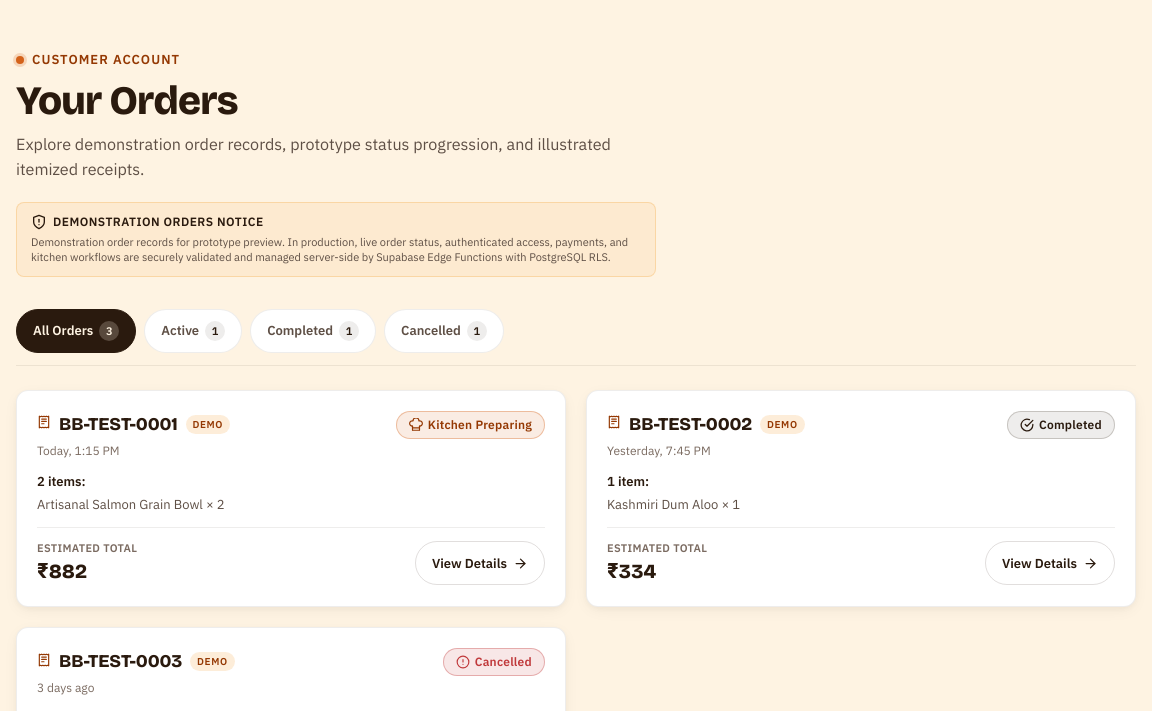
Scenario: Customer Orders Experience (Task 05) › OrdersSection › filters orders by category tab correctly
// Filter by Active
Click the tab "Active 1": (193, 331) [144,309,242,353]
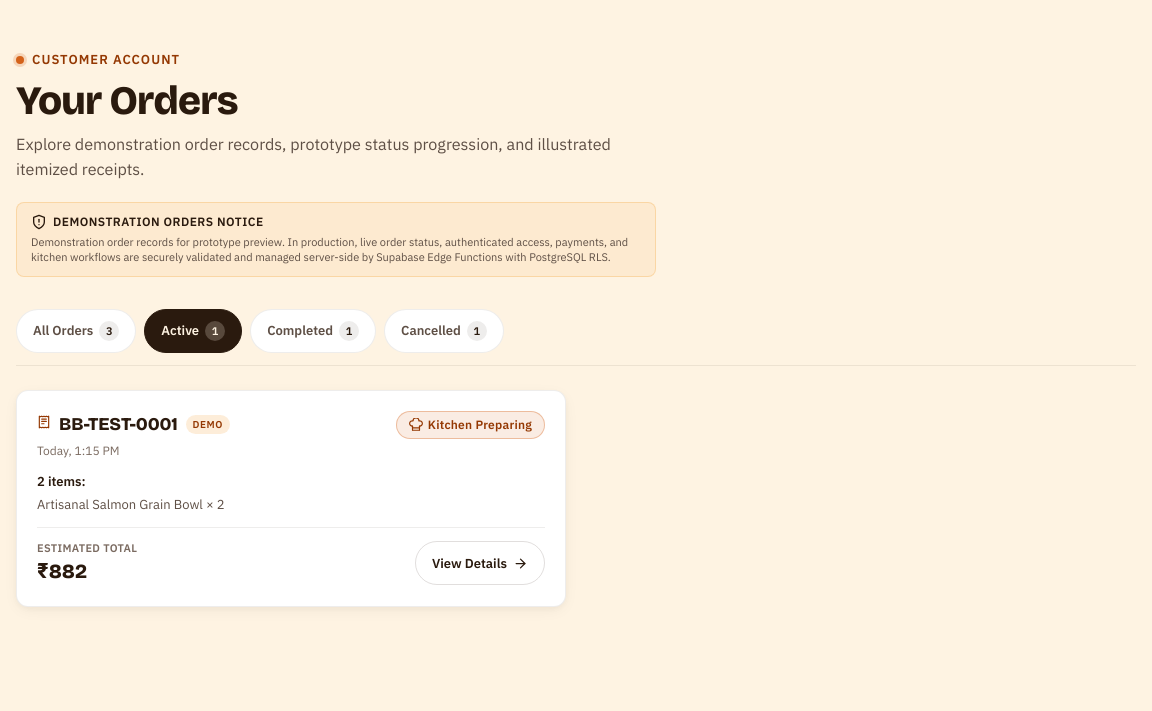
Expected: the heading "BB-TEST-0001" is shown, [59,411,178,438]
Expected: the heading "BB-TEST-0002" is gone
Expected: the heading "BB-TEST-0003" is gone
// Filter by Completed
Click the tab "Completed 1": (313, 331) [250,309,376,353]
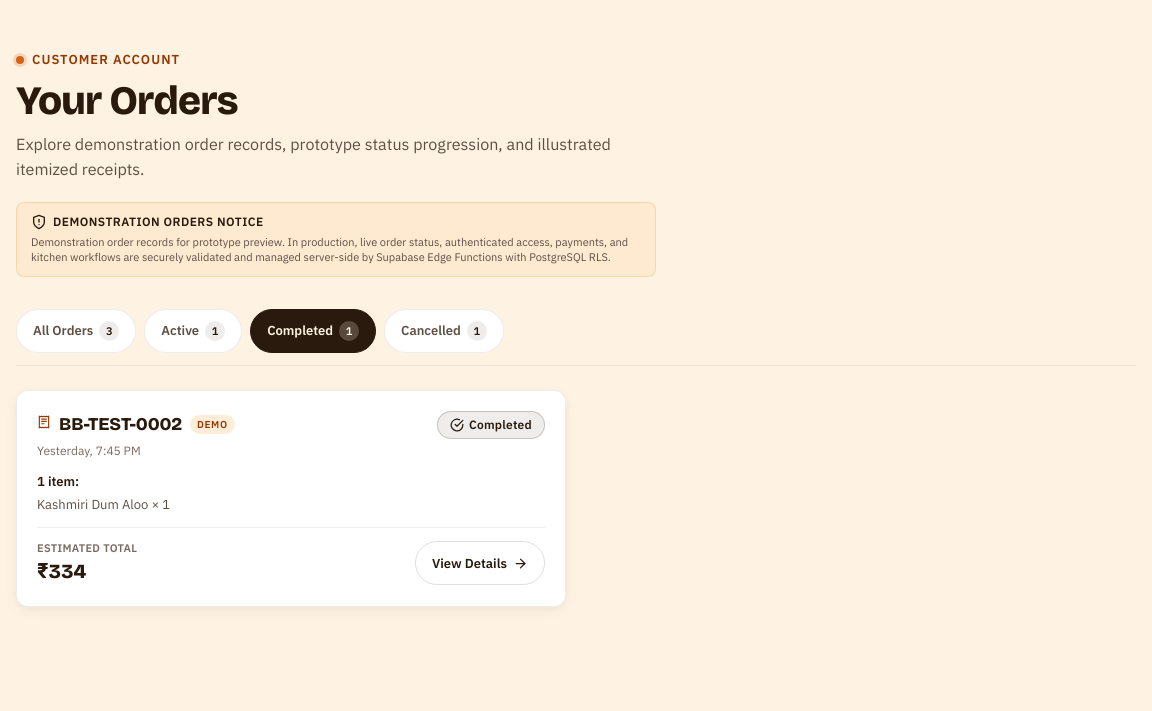
Expected: the heading "BB-TEST-0003" is not shown
Expected: the heading "BB-TEST-0001" is gone
Expected: the heading "BB-TEST-0002" is shown, [59,411,182,438]
// Filter by Cancelled
Click the tab "Cancelled 1": (444, 331) [384,309,504,353]
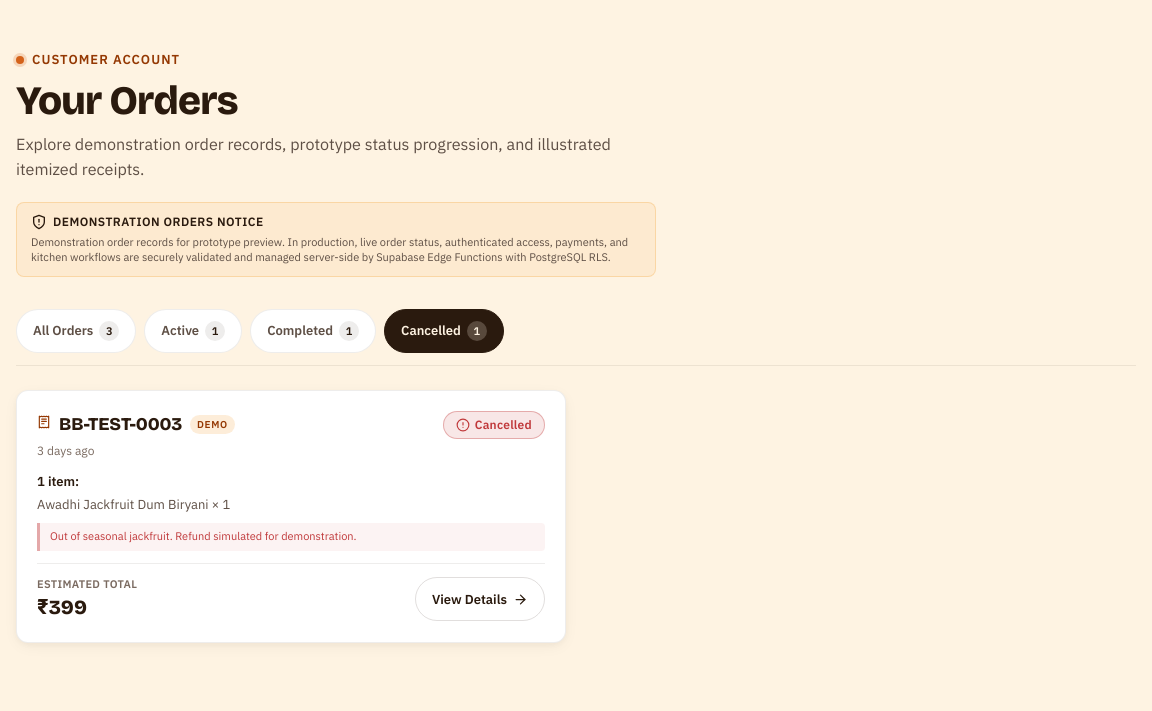
Expected: the heading "BB-TEST-0001" is not shown
Expected: the heading "BB-TEST-0002" is gone
Expected: the heading "BB-TEST-0003" is shown, [59,411,182,438]
// Return to All Orders
Click the tab "All Orders 3": (76, 331) [16,309,136,353]
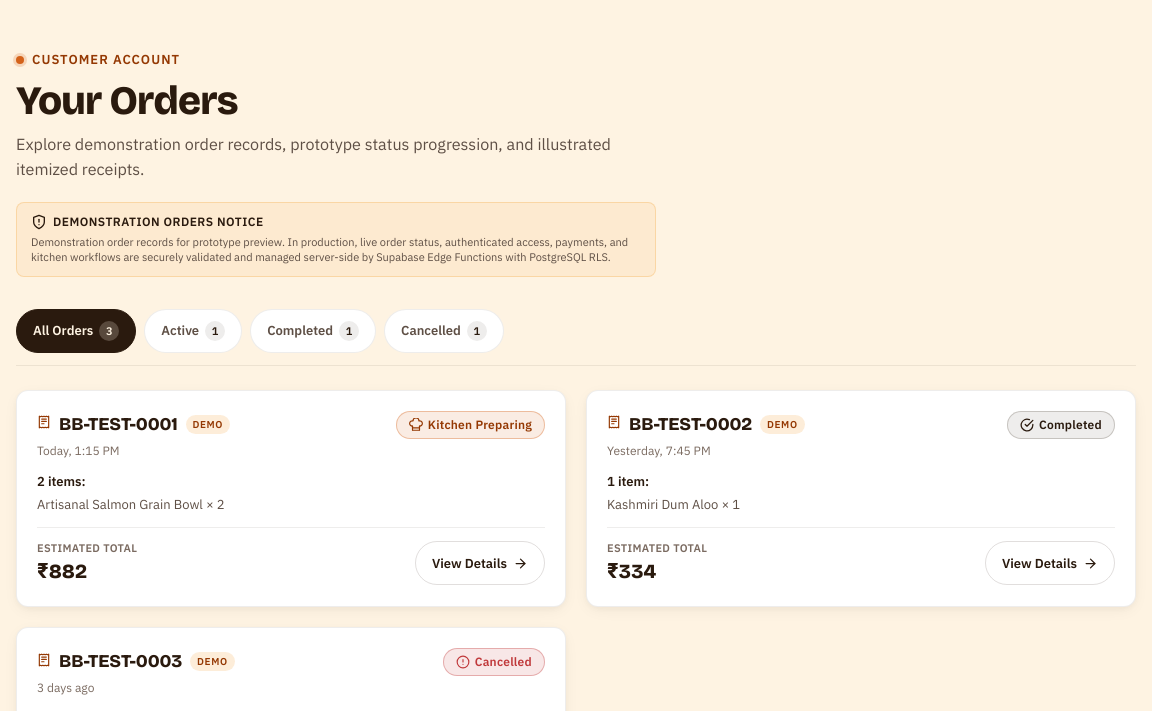
Expected: the heading "BB-TEST-0003" is shown, [59,648,182,675]
Expected: the heading "BB-TEST-0001" is shown, [59,411,178,438]
Expected: the heading "BB-TEST-0002" is shown, [629,411,752,438]
